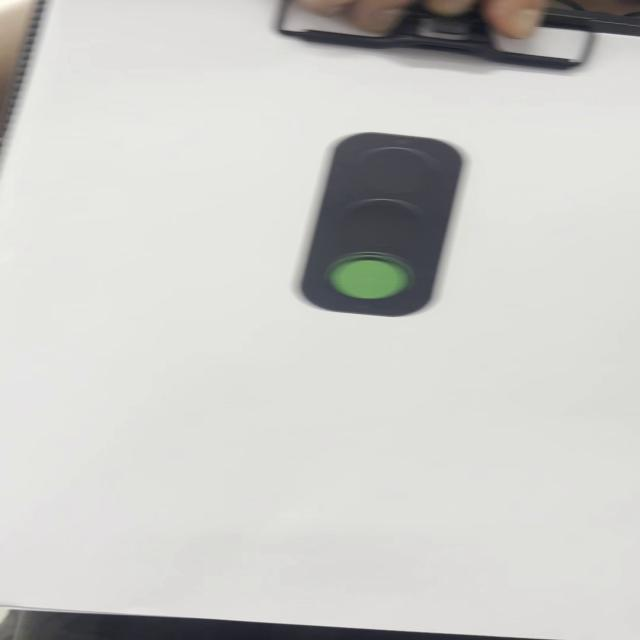green: (312, 132, 463, 318)
